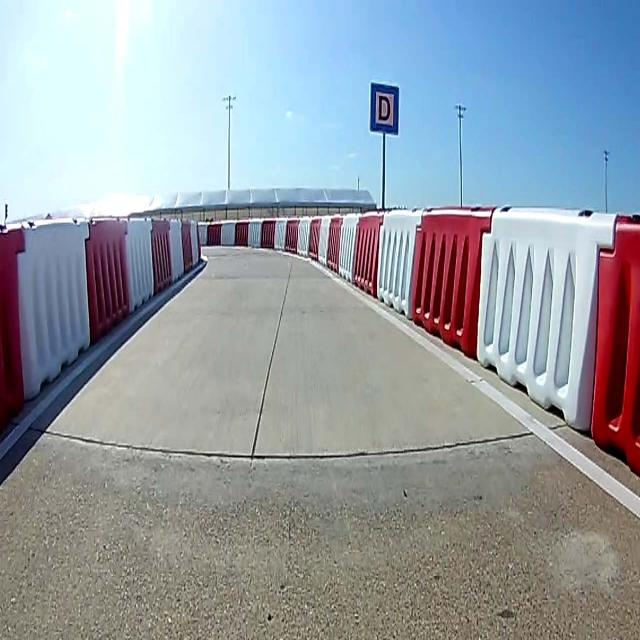durak: (370, 82, 400, 133)
